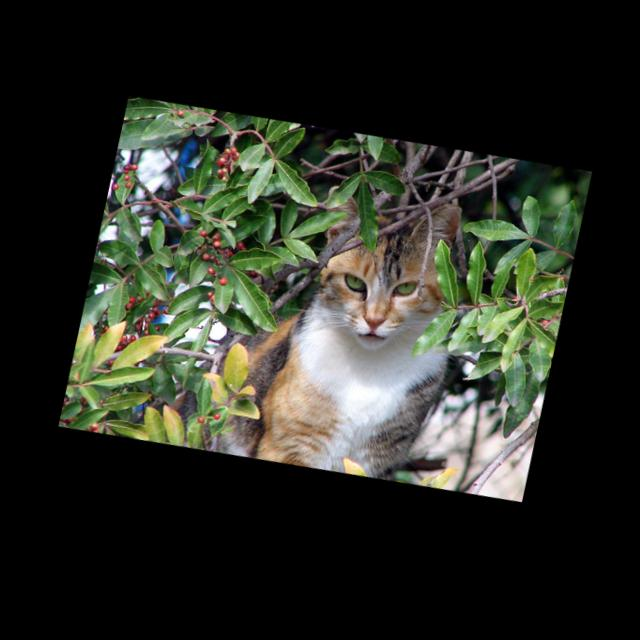animals: (307, 184, 458, 347)
